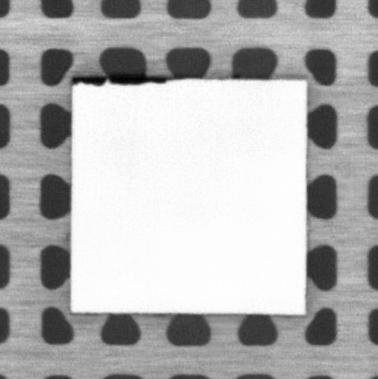DIE_BROKEN: (70, 74, 170, 86)
